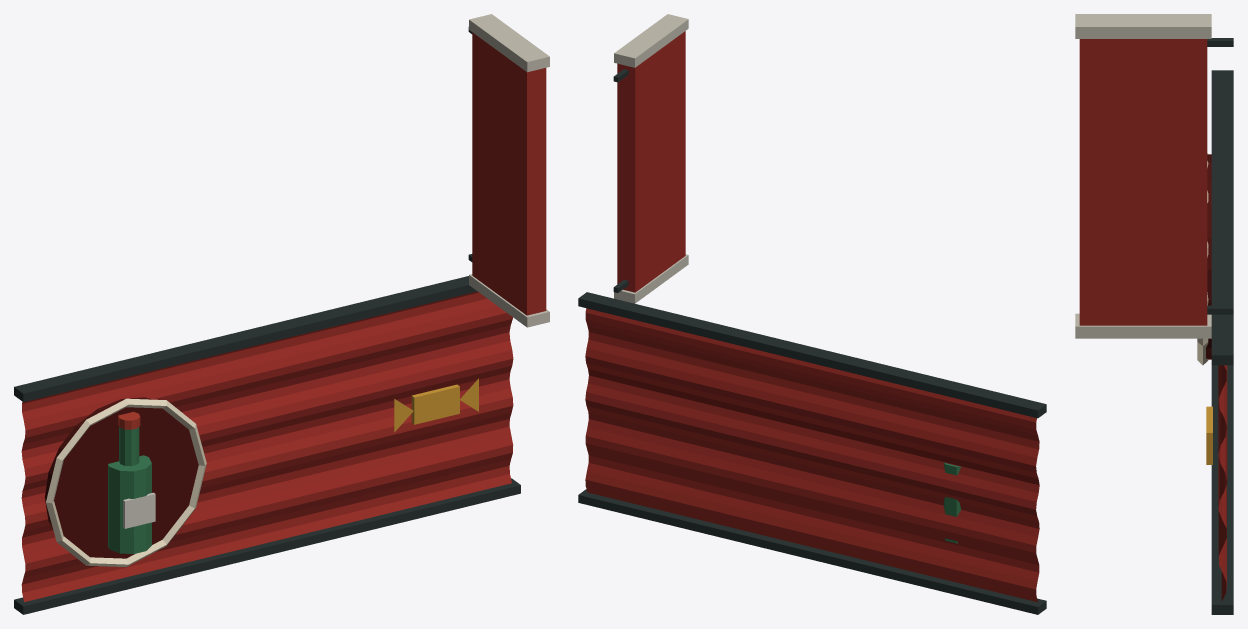
Rendered from bang_tap_hoa_co_ut_32.glb.
3 views of the same model, side by side, from view 1: azimuth 30°, elevation 25°; view 2: azimuth 150°, elevation 25°; view 3: azimuth 270°, elevation 25° (orthographic). The views are drawn at different scales.
Visible parts, largest first — view 1: bang_tap_hoa_co_ut_32; view 2: bang_tap_hoa_co_ut_32; view 3: bang_tap_hoa_co_ut_32.
Part boxes in pixels (bbox=[...]): bang_tap_hoa_co_ut_32: bbox=[14, 14, 549, 614]; bang_tap_hoa_co_ut_32: bbox=[578, 14, 1046, 614]; bang_tap_hoa_co_ut_32: bbox=[1075, 14, 1233, 614].
Bounding box in the file's own units: 3.06 × 2.86 × 0.72.
